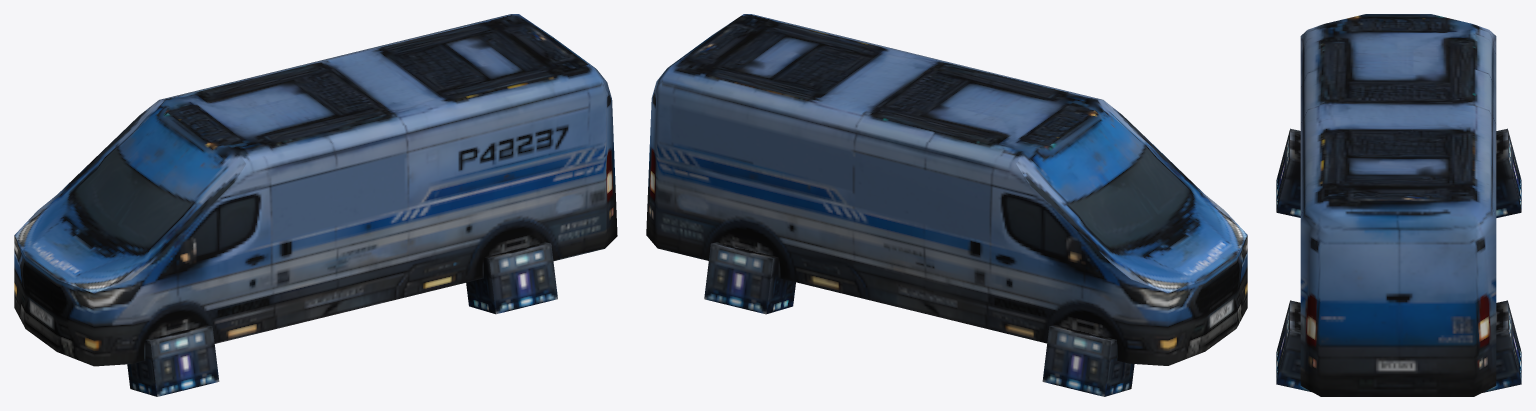
The model's file is CP_Air_Traffic_Minibus.fbx.
3 renders of one model, left to right at view 1: azimuth 30°, elevation 25°; view 2: azimuth 150°, elevation 25°; view 3: azimuth 270°, elevation 25°, orthographic. The views are drawn at different scales.
Parts seen in each view (by area): view 1: CP_Air_Traffic_Minibus; view 2: CP_Air_Traffic_Minibus; view 3: CP_Air_Traffic_Minibus.
Part boxes in pixels (left/top/right/bottom): CP_Air_Traffic_Minibus: left=14, top=14, right=617, bottom=396; CP_Air_Traffic_Minibus: left=646, top=14, right=1247, bottom=396; CP_Air_Traffic_Minibus: left=1276, top=14, right=1521, bottom=396.
Size of the model in its own units: 628 by 238 by 238.
